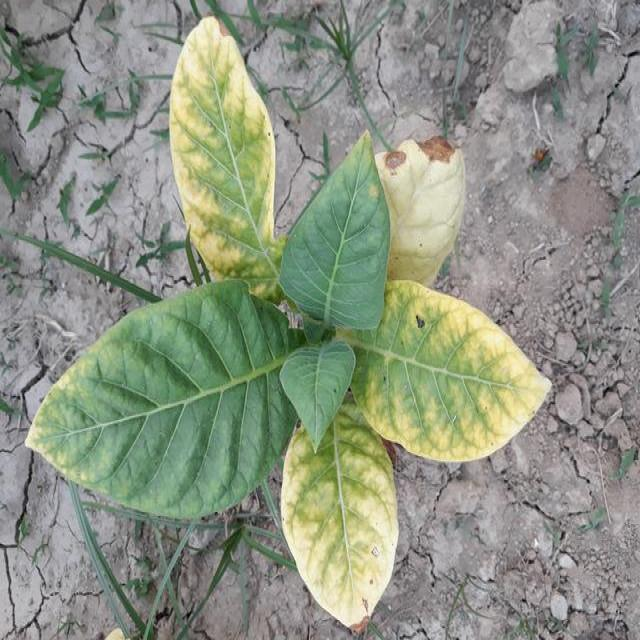crop: (42, 45, 548, 630)
